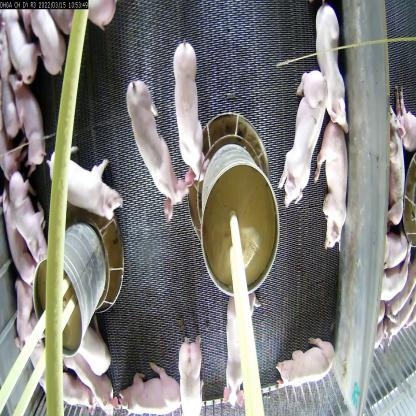Pig: (121, 76, 186, 224), (43, 137, 124, 226), (276, 83, 326, 218), (308, 0, 350, 139), (170, 42, 208, 186), (318, 115, 351, 253), (18, 1, 76, 74), (278, 330, 334, 400), (2, 174, 46, 263), (221, 292, 253, 414), (115, 368, 181, 415), (12, 79, 44, 174), (70, 353, 117, 416), (172, 339, 207, 415), (76, 317, 112, 364)
